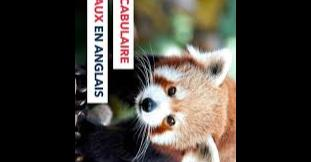Non_Gorille: (129, 32, 236, 162)
